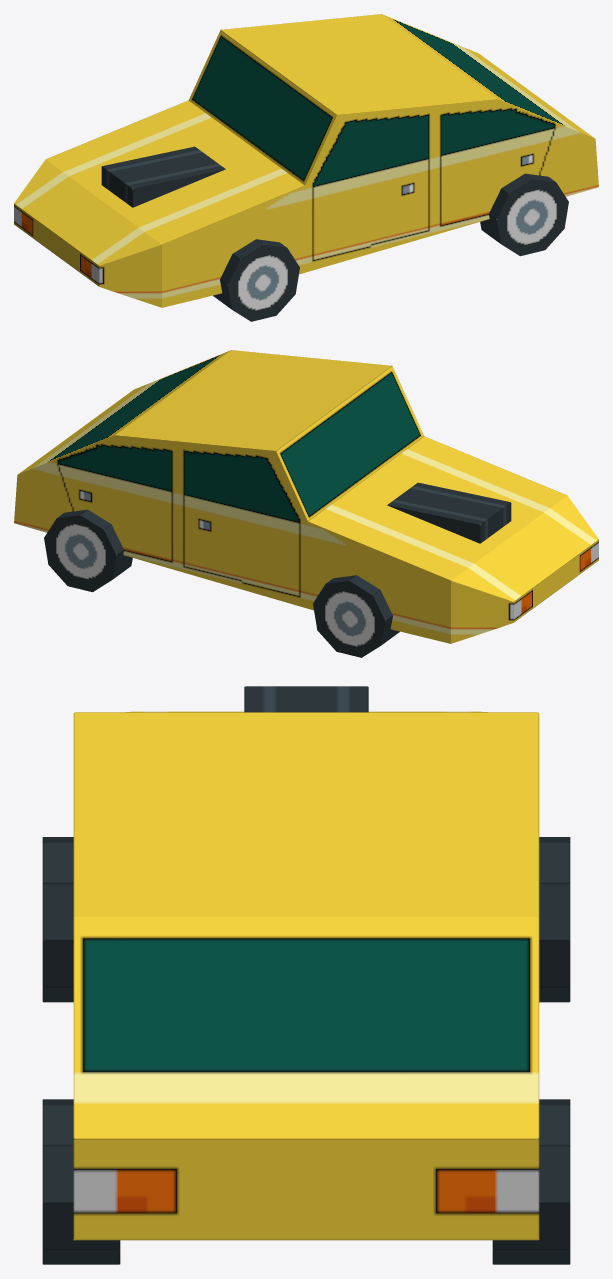
Rendered from coolcar.fbx.
3 renders of one model, top to bottom at view 1: azimuth 30°, elevation 25°; view 2: azimuth 150°, elevation 25°; view 3: azimuth 270°, elevation 25°, orthographic. The views are drawn at different scales.
Parts seen in each view (by area): view 1: group, cylinder_1, cylinder; view 2: group, cylinder_2, cylinder_3; view 3: group, cylinder_1, cylinder_2, cylinder, cylinder_3.
Part boxes in pixels (left/top/right/bottom): group: left=14, top=14, right=598, bottom=307; cylinder_1: left=480, top=173, right=568, bottom=256; cylinder: left=213, top=239, right=299, bottom=321; group: left=14, top=350, right=598, bottom=643; cylinder_2: left=44, top=509, right=132, bottom=592; cylinder_3: left=313, top=575, right=399, bottom=657; group: left=73, top=686, right=539, bottom=1240; cylinder_1: left=42, top=1099, right=120, bottom=1264; cylinder_2: left=492, top=1099, right=570, bottom=1264; cylinder: left=42, top=837, right=73, bottom=1002; cylinder_3: left=539, top=837, right=570, bottom=1002.
Size of the model in its own units: 450 by 158 by 212.
1 material, 1 textured.
